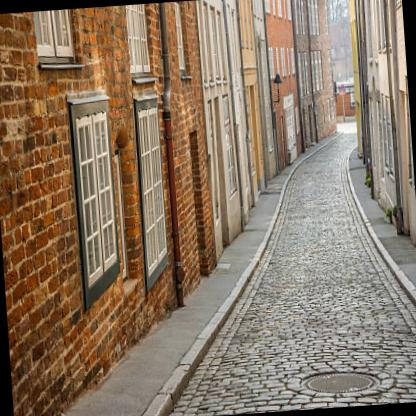manholes: (280, 349, 390, 407)
